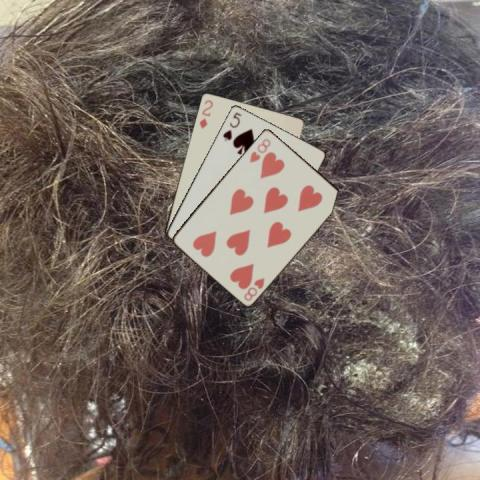2d: (196, 97, 214, 130)
5s: (220, 109, 243, 142)
8h: (247, 135, 272, 164), (241, 275, 266, 302)
